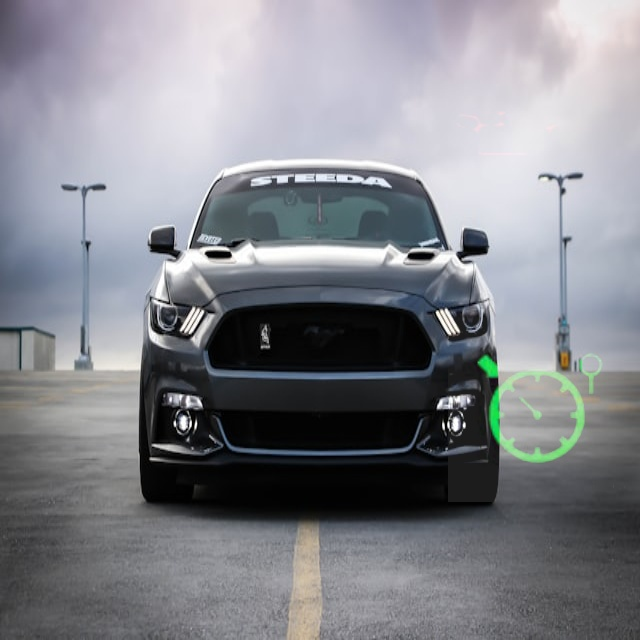symbol: (448, 317, 633, 502), (430, 50, 598, 218)
